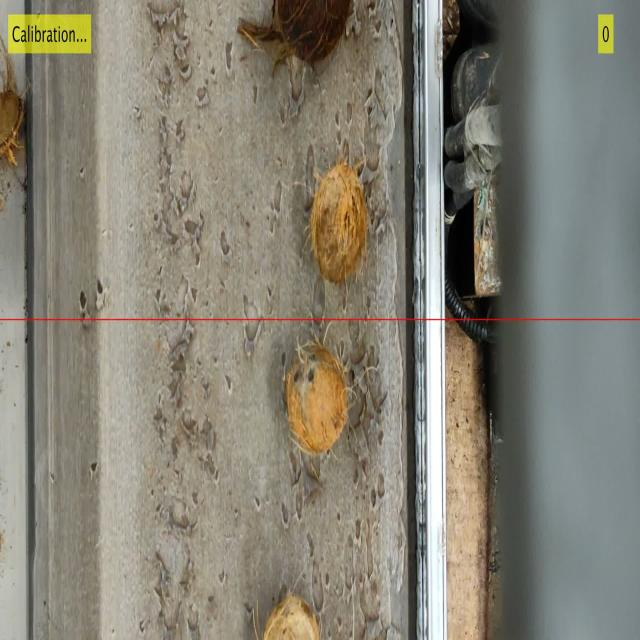Coconut-Conveyor-Belt: (279, 334, 351, 455), (306, 154, 368, 282), (234, 3, 356, 62), (260, 582, 320, 640)
